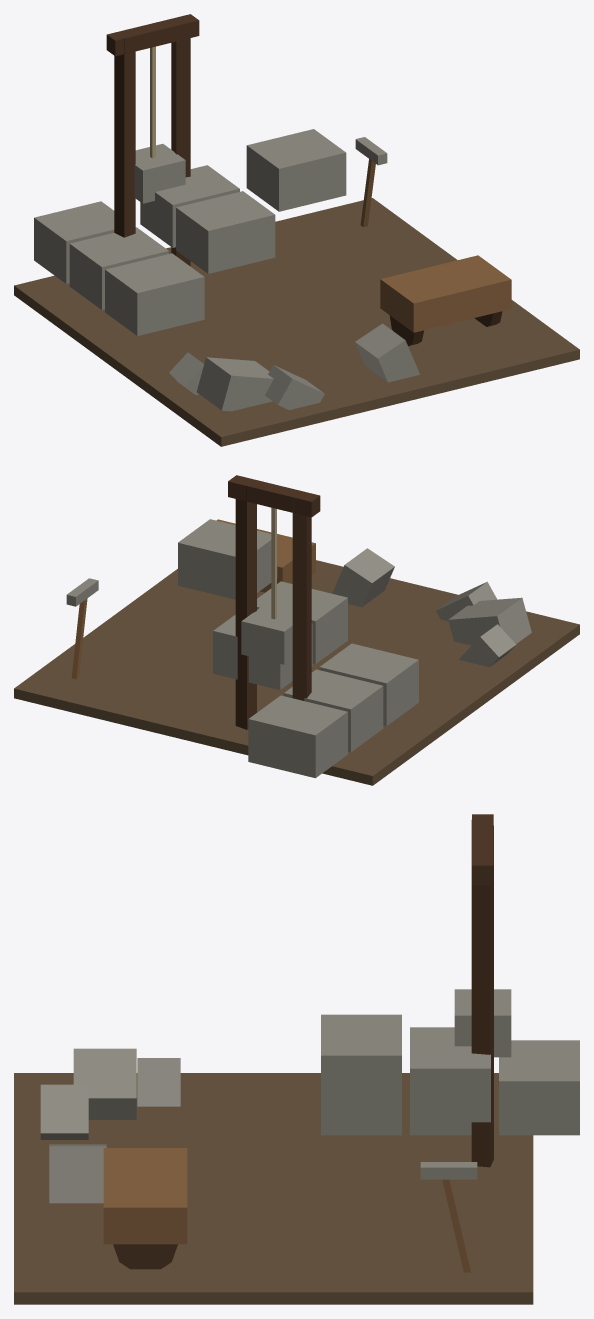
Rendered from quarry.glb.
The picture shows the model from 3 angles, top to bottom: view 1: azimuth 30°, elevation 25°; view 2: azimuth 150°, elevation 25°; view 3: azimuth 270°, elevation 25°; orthographic projection. The views are drawn at different scales.
Visible parts, largest first — view 1: quarry; view 2: quarry; view 3: quarry.
Boxes of the visible parts, x1,y1,x2,y2 form: quarry: (14,14,579,446); quarry: (14,475,579,785); quarry: (14,814,579,1304).
Size of the model in its own units: 3.85 by 2.69 by 4.19.
